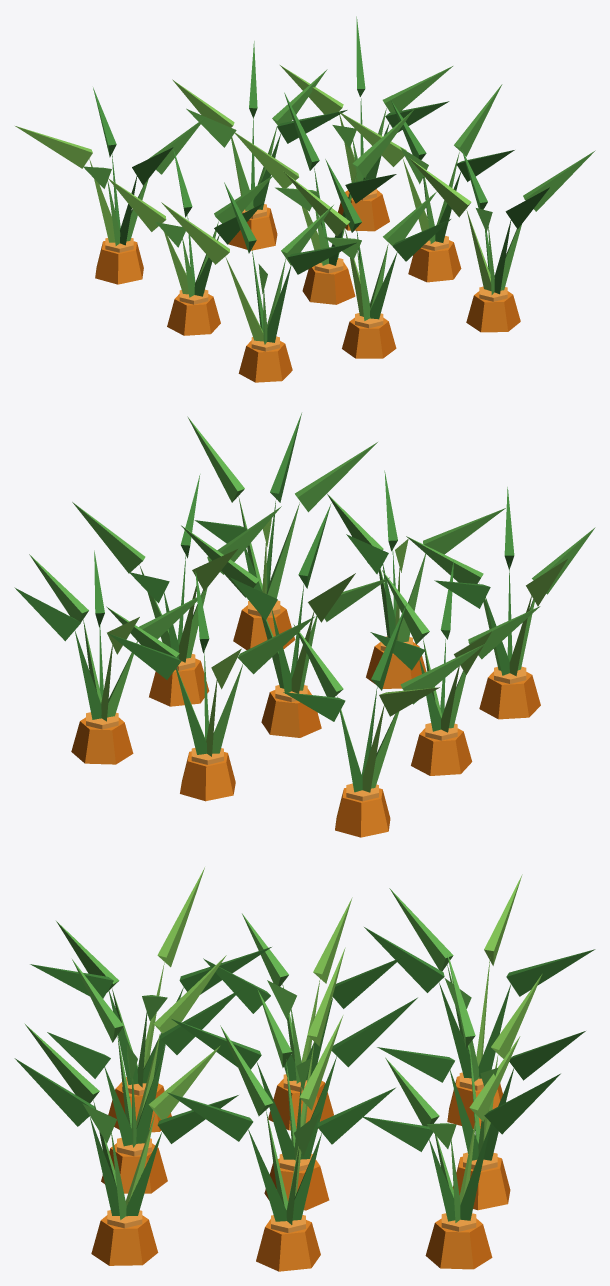
The model's file is carrot-4.glb.
3 renders of one model, top to bottom at view 1: azimuth 30°, elevation 25°; view 2: azimuth 150°, elevation 25°; view 3: azimuth 270°, elevation 25°, orthographic. The views are drawn at different scales.
Visible parts, largest first — view 1: carrot-4; view 2: carrot-4; view 3: carrot-4.
Part boxes in pixels (x1,y1,x2,y2): carrot-4: [15, 16, 595, 382]; carrot-4: [14, 413, 595, 837]; carrot-4: [14, 867, 595, 1271].
Size of the model in its own units: 0.8575 by 0.3419 by 0.8682.
Materials: 1 (1 with a texture image).
